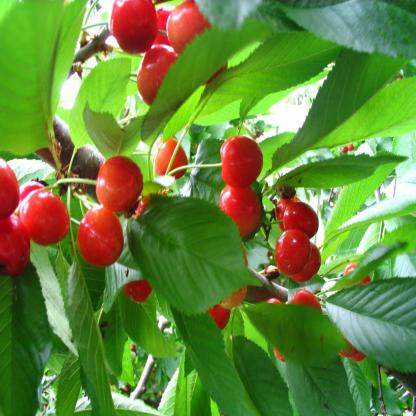cherry leaf: (125, 186, 259, 311), (169, 287, 261, 416), (57, 248, 122, 416), (314, 279, 416, 377), (244, 293, 350, 387), (63, 54, 134, 164), (83, 84, 153, 177)
